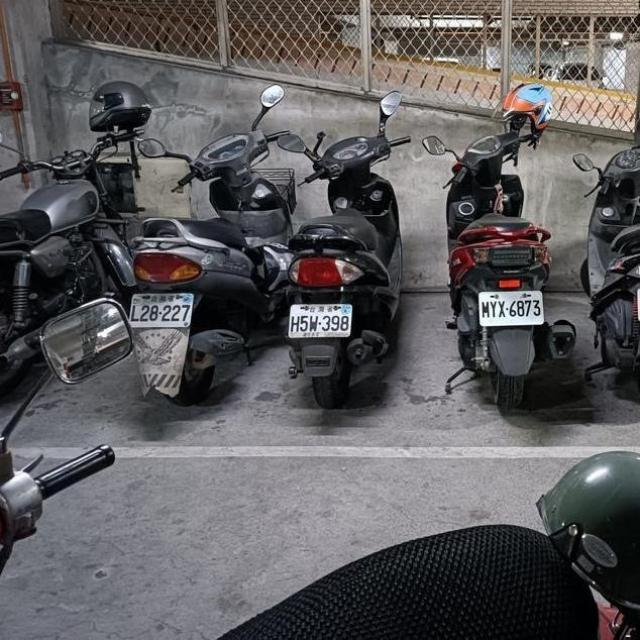W: (285, 295, 355, 343), (126, 286, 196, 331), (476, 285, 545, 328)
